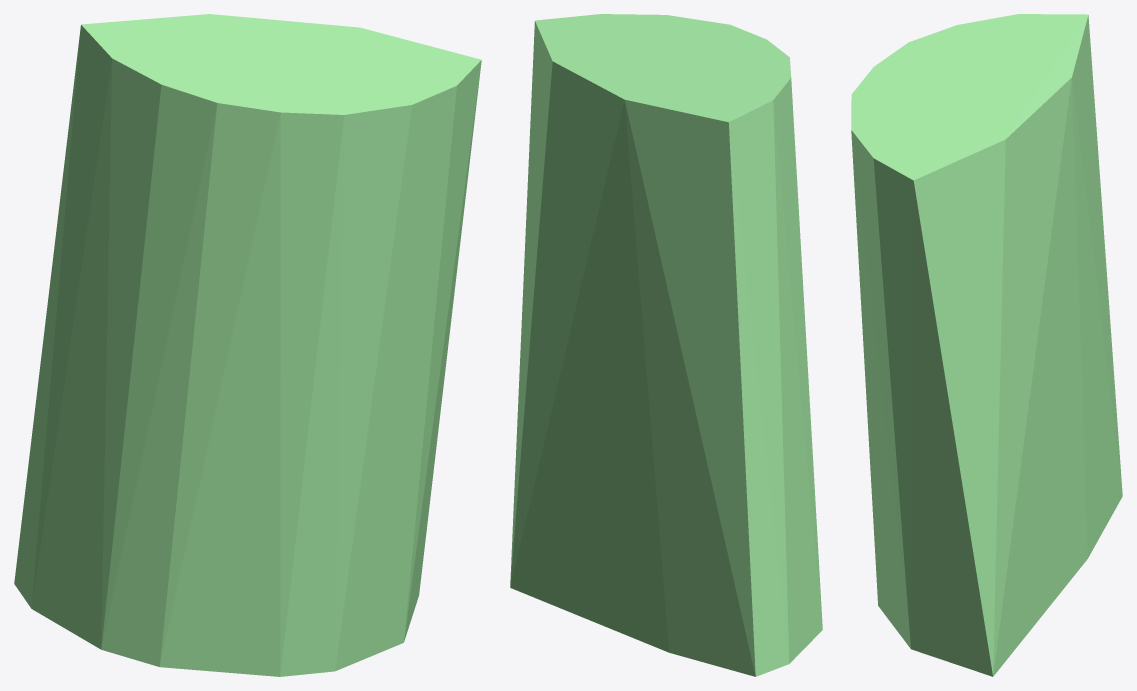
File: UMIRobot_UMIRobot_link_5_convex_coll_81.dae
The picture shows the model from 3 angles, left to right: view 1: azimuth 30°, elevation 25°; view 2: azimuth 150°, elevation 25°; view 3: azimuth 270°, elevation 25°; orthographic projection. The views are drawn at different scales.
Visible parts, largest first — view 1: node; view 2: node; view 3: node.
Part boxes in pixels (x1,y1,x2,y2): node: (14,14,481,676); node: (510,14,822,676); node: (851,14,1122,676).
Bounding box in the file's own units: 0.00487 × 0.00777 × 0.00356.
